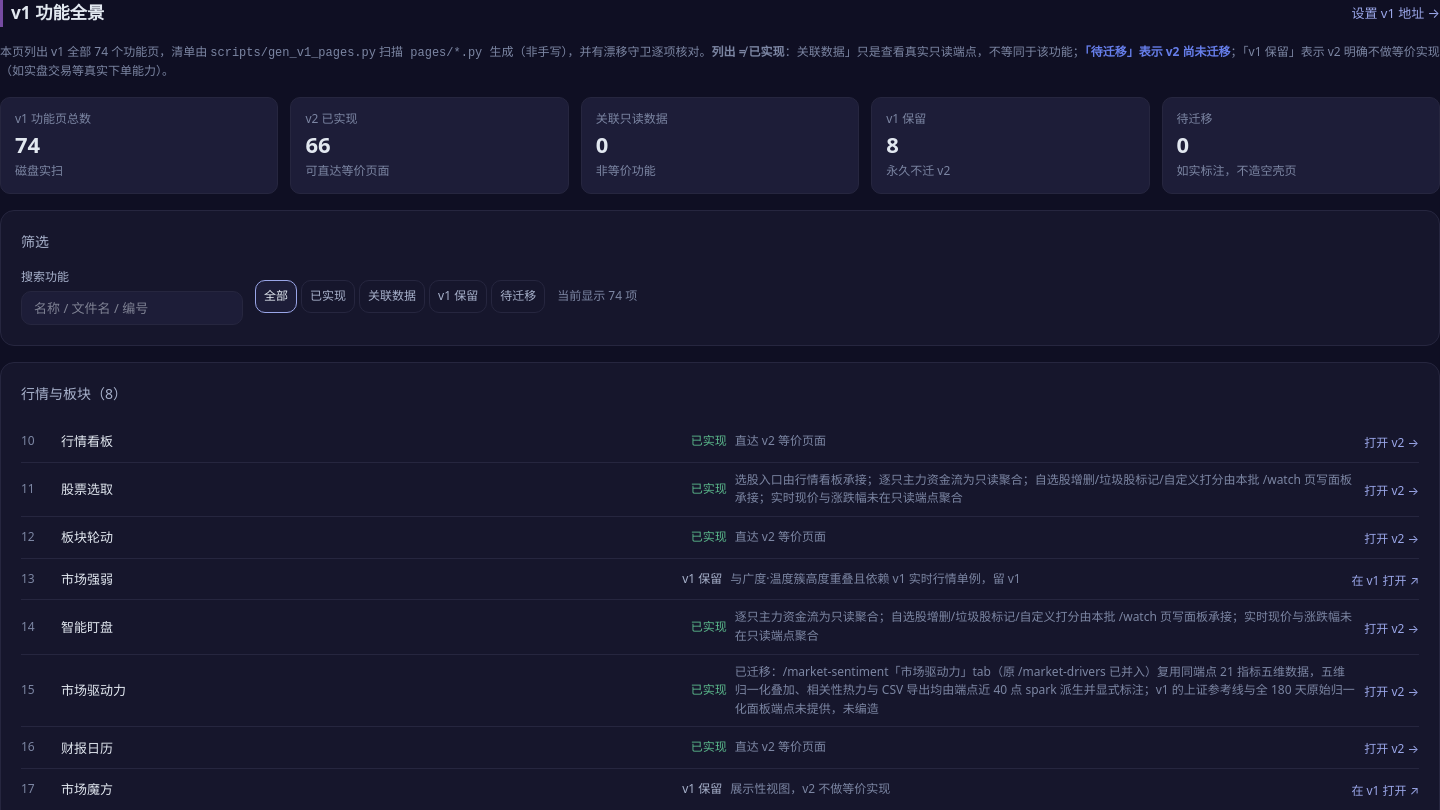
Test: CatalogView · v1 功能全景 · 诚实三档 + 搜索/筛选 › 搜索无匹配 → 诚实空态「没有匹配的功能页。」
Type "zzzqqq" into the search field labelled "搜索功能" at [132, 308], box [21,291,243,325]
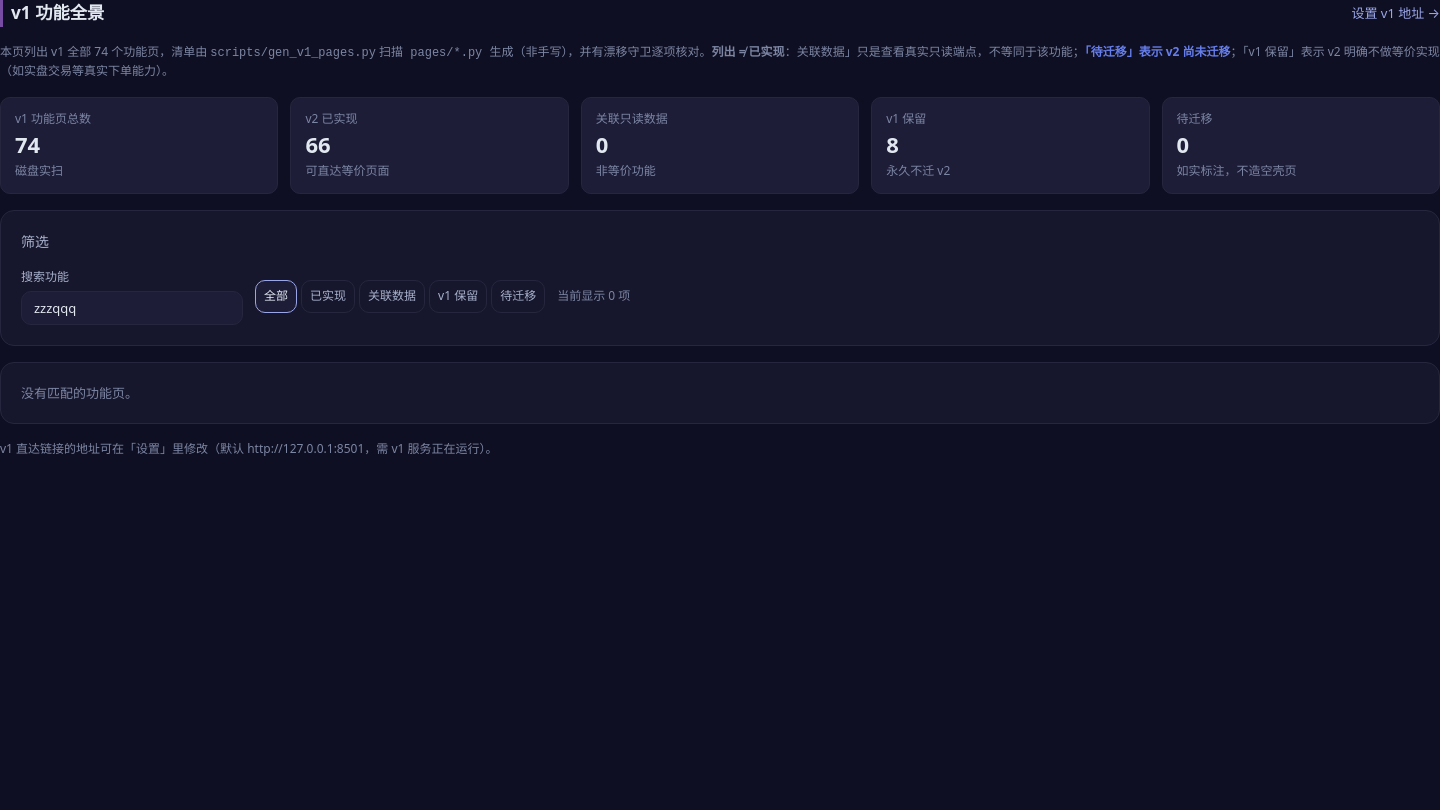
Expected: the text "没有匹配的功能页。" is shown, [21,384,138,402]
